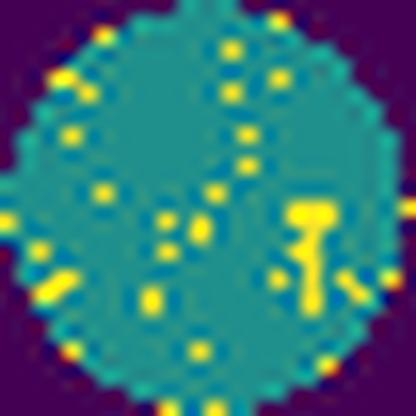Scratch: (279, 192, 340, 323)
